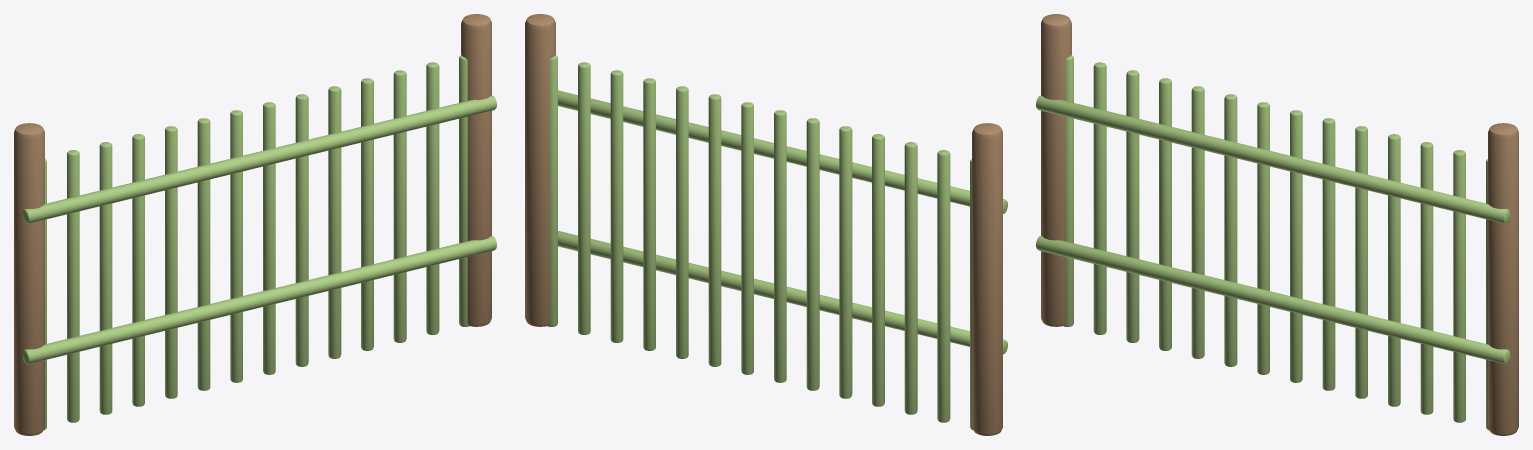
Rendered from take_gaki.glb.
3 views of the same model, side by side, from view 1: azimuth 30°, elevation 25°; view 2: azimuth 150°, elevation 25°; view 3: azimuth 330°, elevation 25° (orthographic).
Parts seen in each view (by area): view 1: take_gaki; view 2: take_gaki; view 3: take_gaki.
Boxes of the visible parts, left/top/right/bottom form: take_gaki: left=14, top=14, right=496, bottom=435; take_gaki: left=525, top=14, right=1007, bottom=435; take_gaki: left=1036, top=14, right=1518, bottom=435.
Size of the model in its own units: 2.12 by 1.3 by 0.1395.
